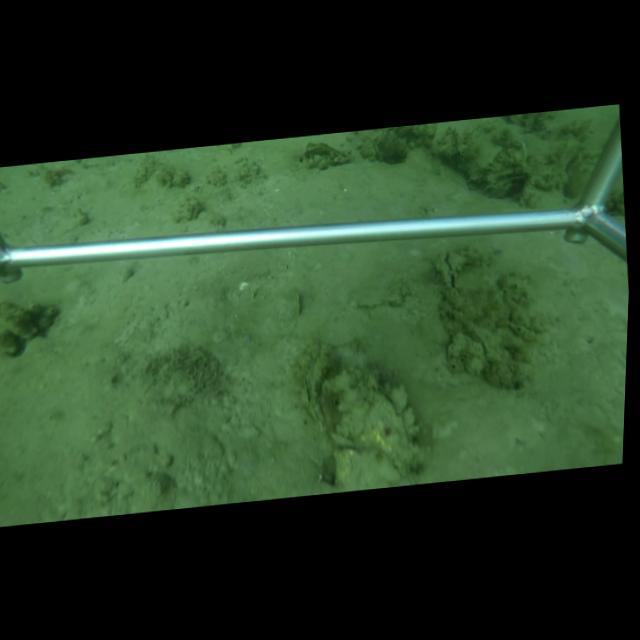Oyster-Closed: (300, 356, 333, 437), (290, 293, 302, 318), (367, 142, 382, 161)
Oyster-Indeterminate: (328, 372, 408, 486)
Oyster-Open: (436, 250, 464, 290)
